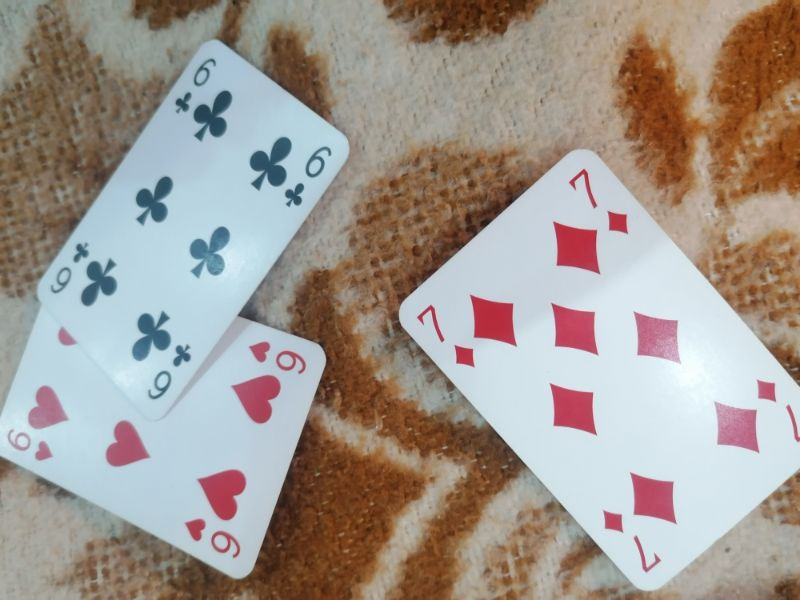6c: (282, 143, 338, 209), (170, 53, 221, 116), (147, 341, 196, 402), (47, 237, 92, 298)
6h: (182, 513, 245, 563), (245, 334, 309, 376), (3, 425, 56, 463)
7d: (565, 164, 633, 237), (600, 506, 666, 574), (412, 301, 477, 369)
